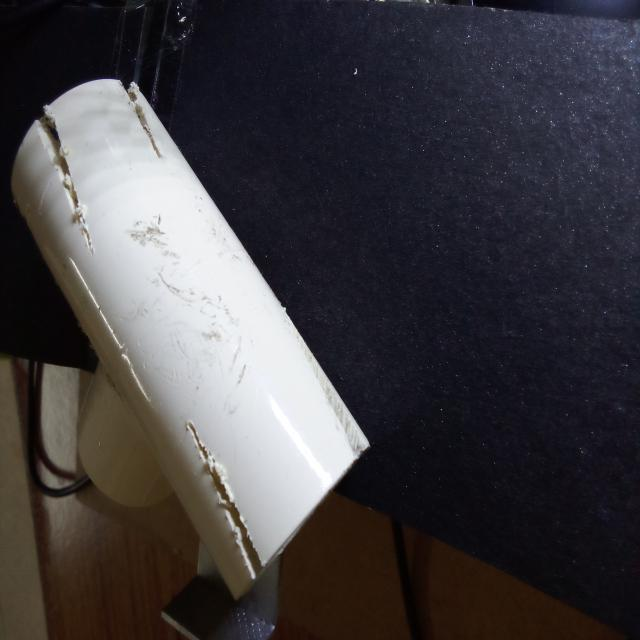Defective: (184, 424, 261, 571), (65, 271, 147, 408), (306, 343, 374, 461), (123, 84, 180, 163), (46, 115, 85, 226)
T Joint: (11, 79, 370, 601)
